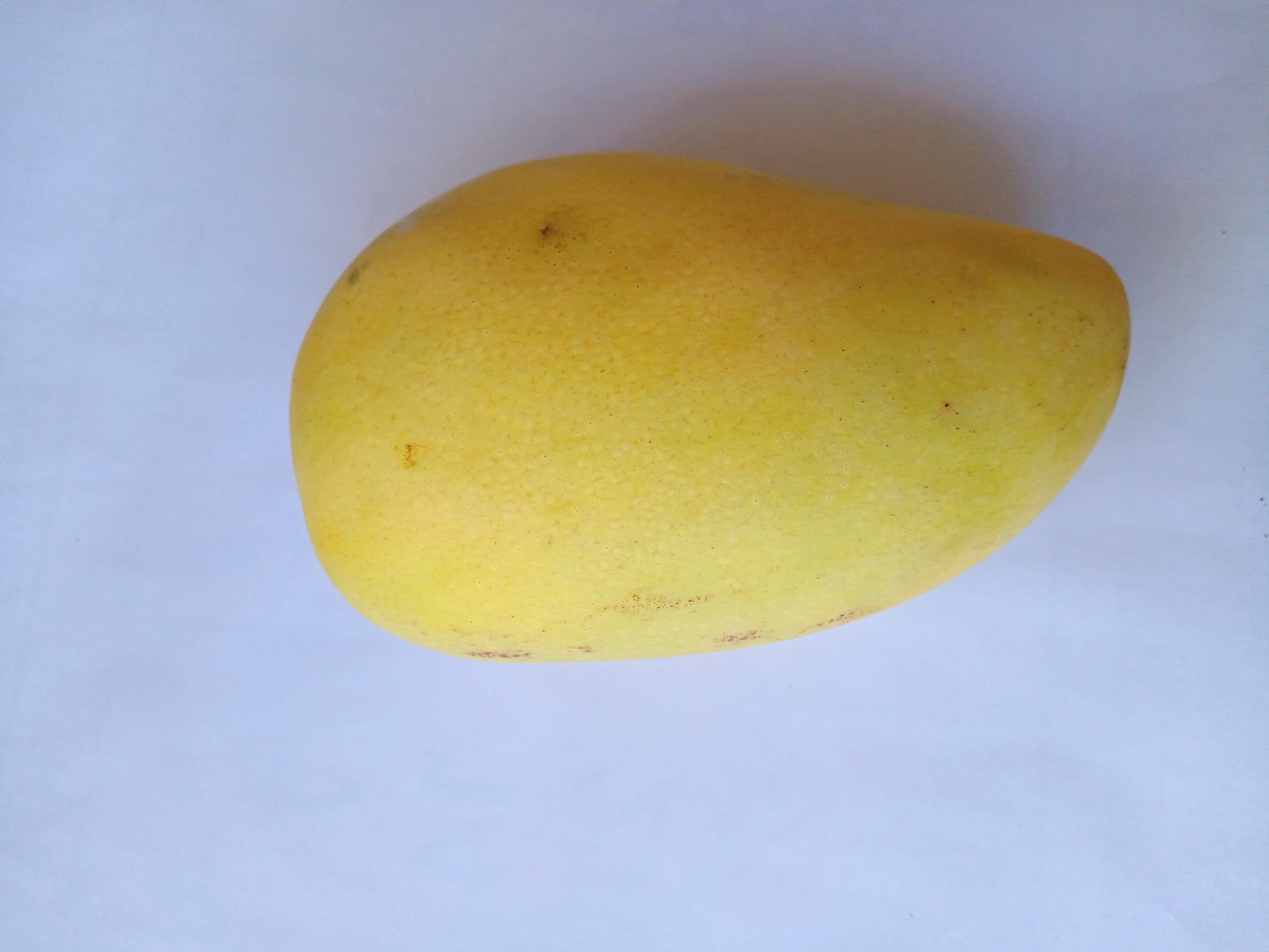Mango Ripe: (231, 108, 1157, 683)
